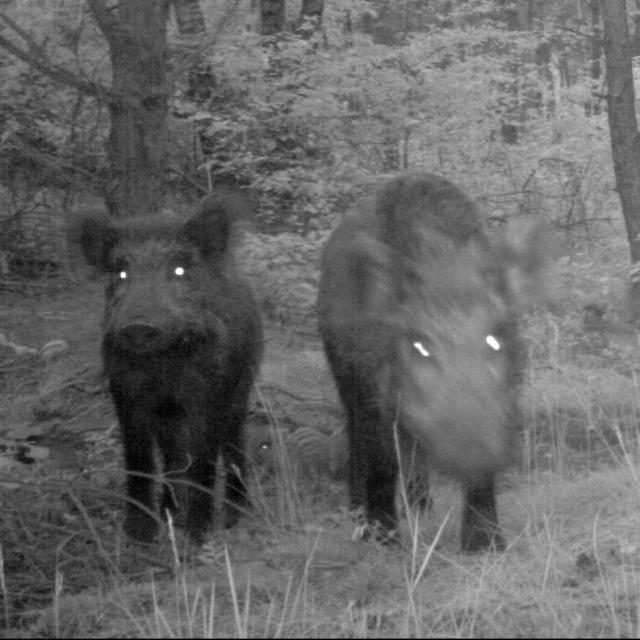pig: (293, 148, 532, 546), (72, 192, 280, 561)
